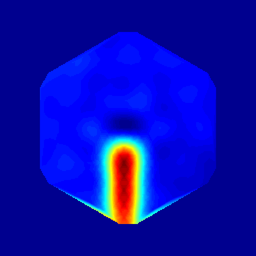ship: (115, 114, 136, 141)
wave: (113, 134, 138, 197)
